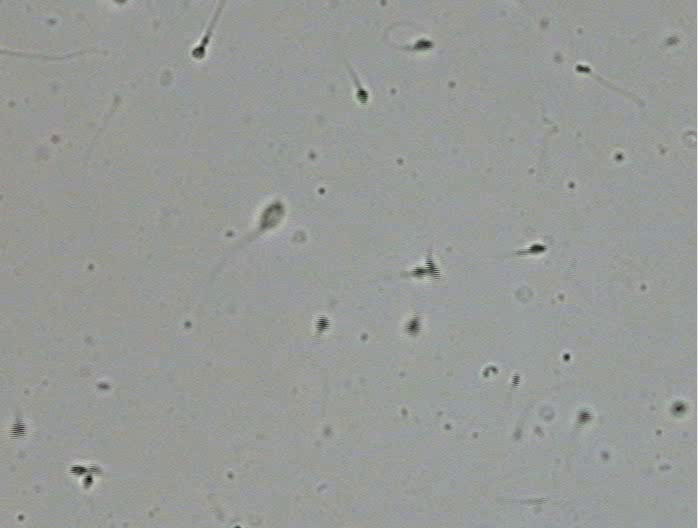S: (260, 202, 284, 229), (425, 257, 441, 280), (8, 421, 27, 439), (314, 316, 330, 332), (405, 319, 420, 335), (414, 39, 434, 51), (411, 266, 429, 278), (356, 87, 368, 105), (69, 464, 88, 475), (577, 410, 593, 423), (672, 401, 686, 415), (192, 46, 206, 59), (81, 474, 93, 489), (529, 244, 546, 254), (575, 64, 591, 74)
